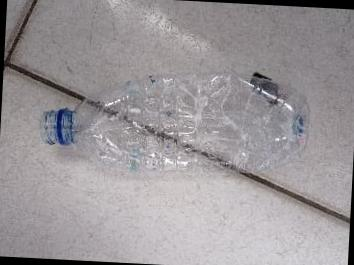Plastik: (40, 71, 309, 182)
